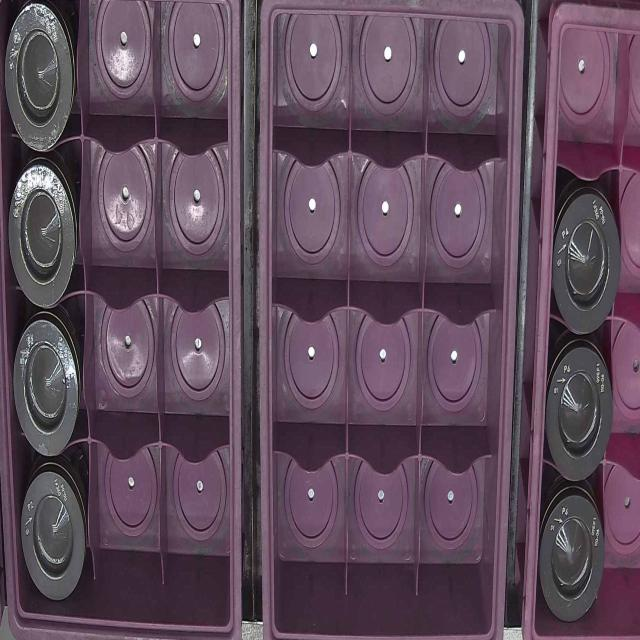P2: (17, 464, 91, 608), (4, 7, 76, 154), (6, 170, 80, 309), (13, 322, 83, 455)
P4: (553, 183, 624, 334), (542, 495, 605, 627), (548, 350, 611, 480)
